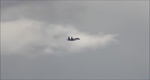maybay_muctieu: (66, 35, 82, 42)
